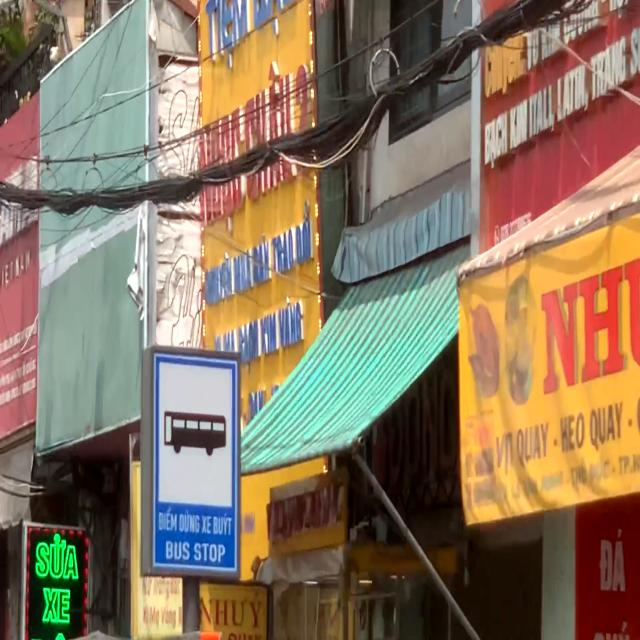R.434: (152, 351, 239, 575)
